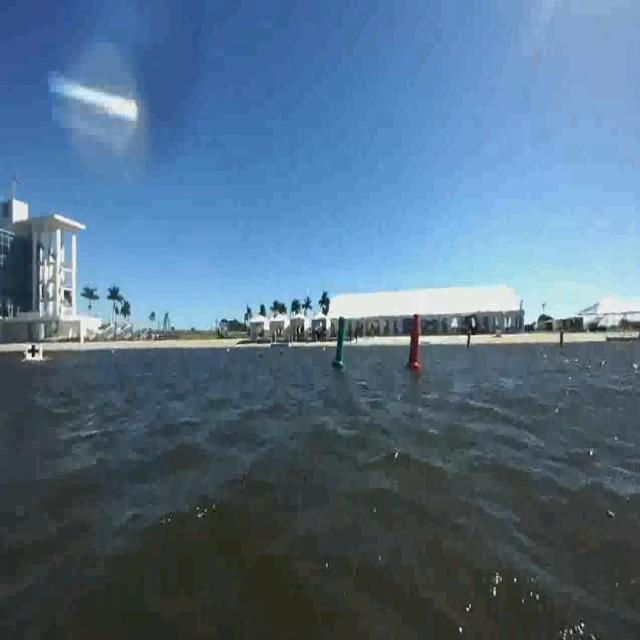green-column-buoy: (334, 318, 349, 370)
red-column-buoy: (406, 312, 424, 372)
